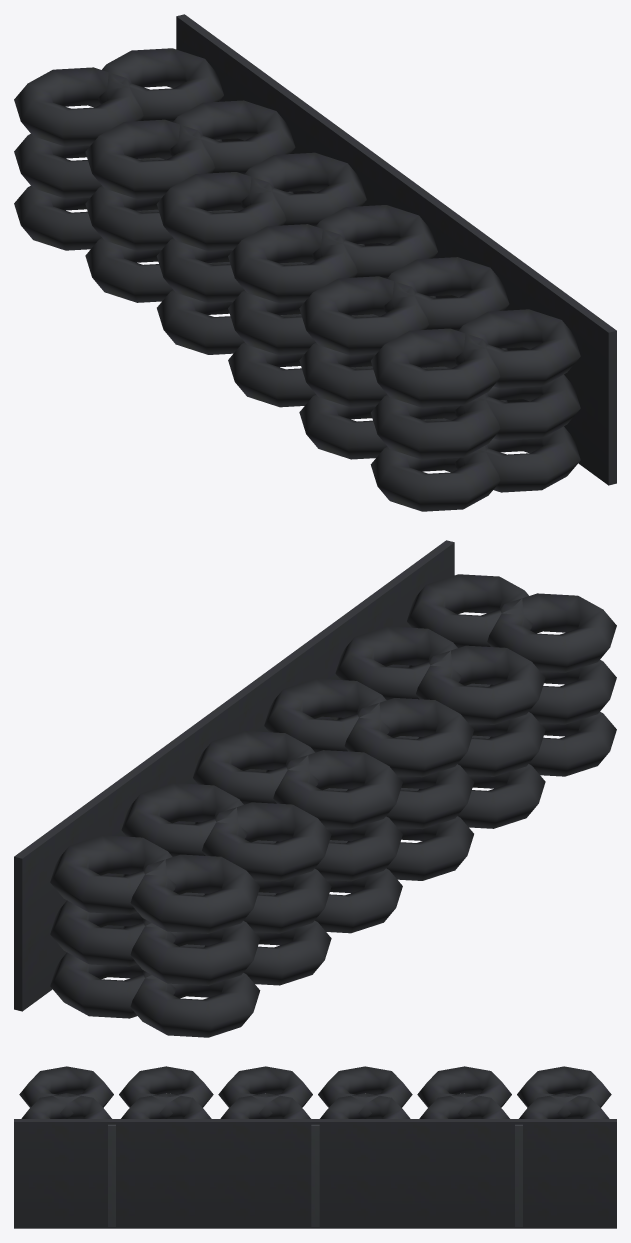
Rendered from tyre-wall_mobile.glb.
3 renders of one model, top to bottom at view 1: azimuth 30°, elevation 25°; view 2: azimuth 150°, elevation 25°; view 3: azimuth 270°, elevation 25°, orthographic. The views are drawn at different scales.
Visible parts, largest first — view 1: rubber; view 2: rubber; view 3: rubber, dark-steel.
Part boxes in pixels (box(x1,y1,x2,y2)): rubber: box(14, 14, 616, 511); rubber: box(14, 540, 616, 1037); rubber: box(14, 1066, 616, 1228); dark-steel: box(108, 1124, 522, 1226).
Bounding box in the file's own units: 1.1 × 0.7801 × 4.
2 materials, 2 textured.
